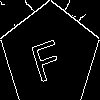F: (25, 30, 66, 83)
